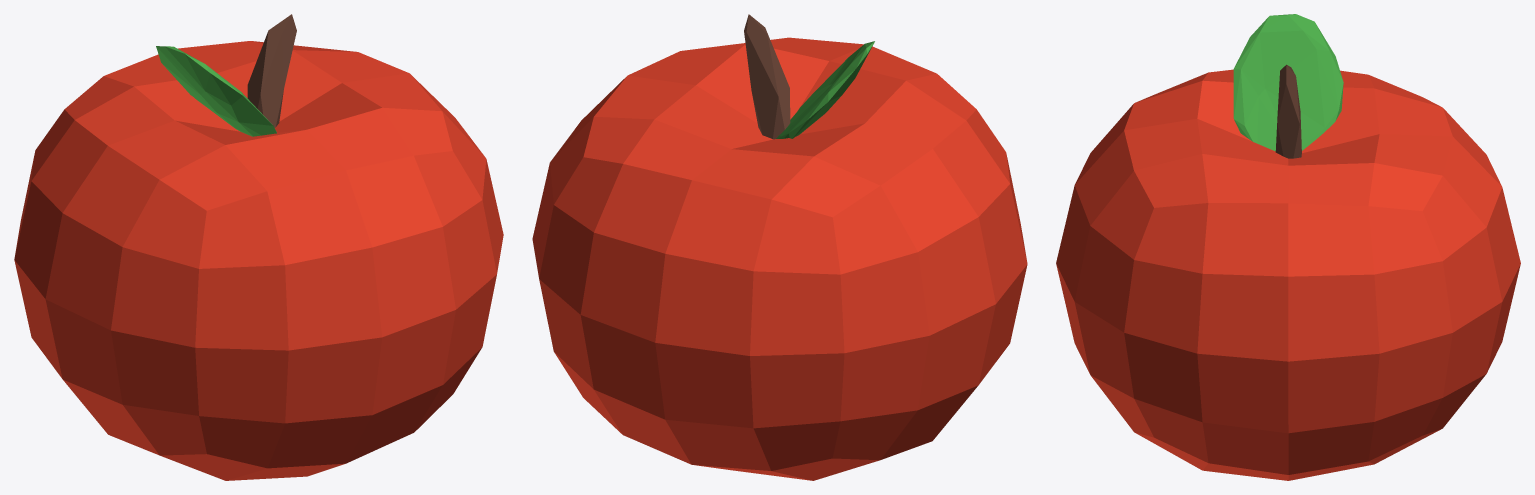
The model's file is apple.glb.
3 views of the same model, side by side, from view 1: azimuth 30°, elevation 25°; view 2: azimuth 150°, elevation 25°; view 3: azimuth 270°, elevation 25° (orthographic). The views are drawn at different scales.
Visible parts, largest first — view 1: apple, leaf, stalk; view 2: apple, stalk, leaf; view 3: apple, leaf, stalk.
Part boxes in pixels (left/top/right/bottom): apple: left=14, top=41, right=503, bottom=480; leaf: left=156, top=46, right=276, bottom=136; stalk: left=247, top=14, right=296, bottom=127; apple: left=532, top=37, right=1027, bottom=480; stalk: left=744, top=14, right=790, bottom=139; leaf: left=776, top=41, right=874, bottom=138; apple: left=1056, top=69, right=1520, bottom=480; leaf: left=1233, top=14, right=1343, bottom=151; stalk: left=1275, top=64, right=1301, bottom=158.
Bounding box in the file's own units: 2.57 × 2.44 × 2.57.
